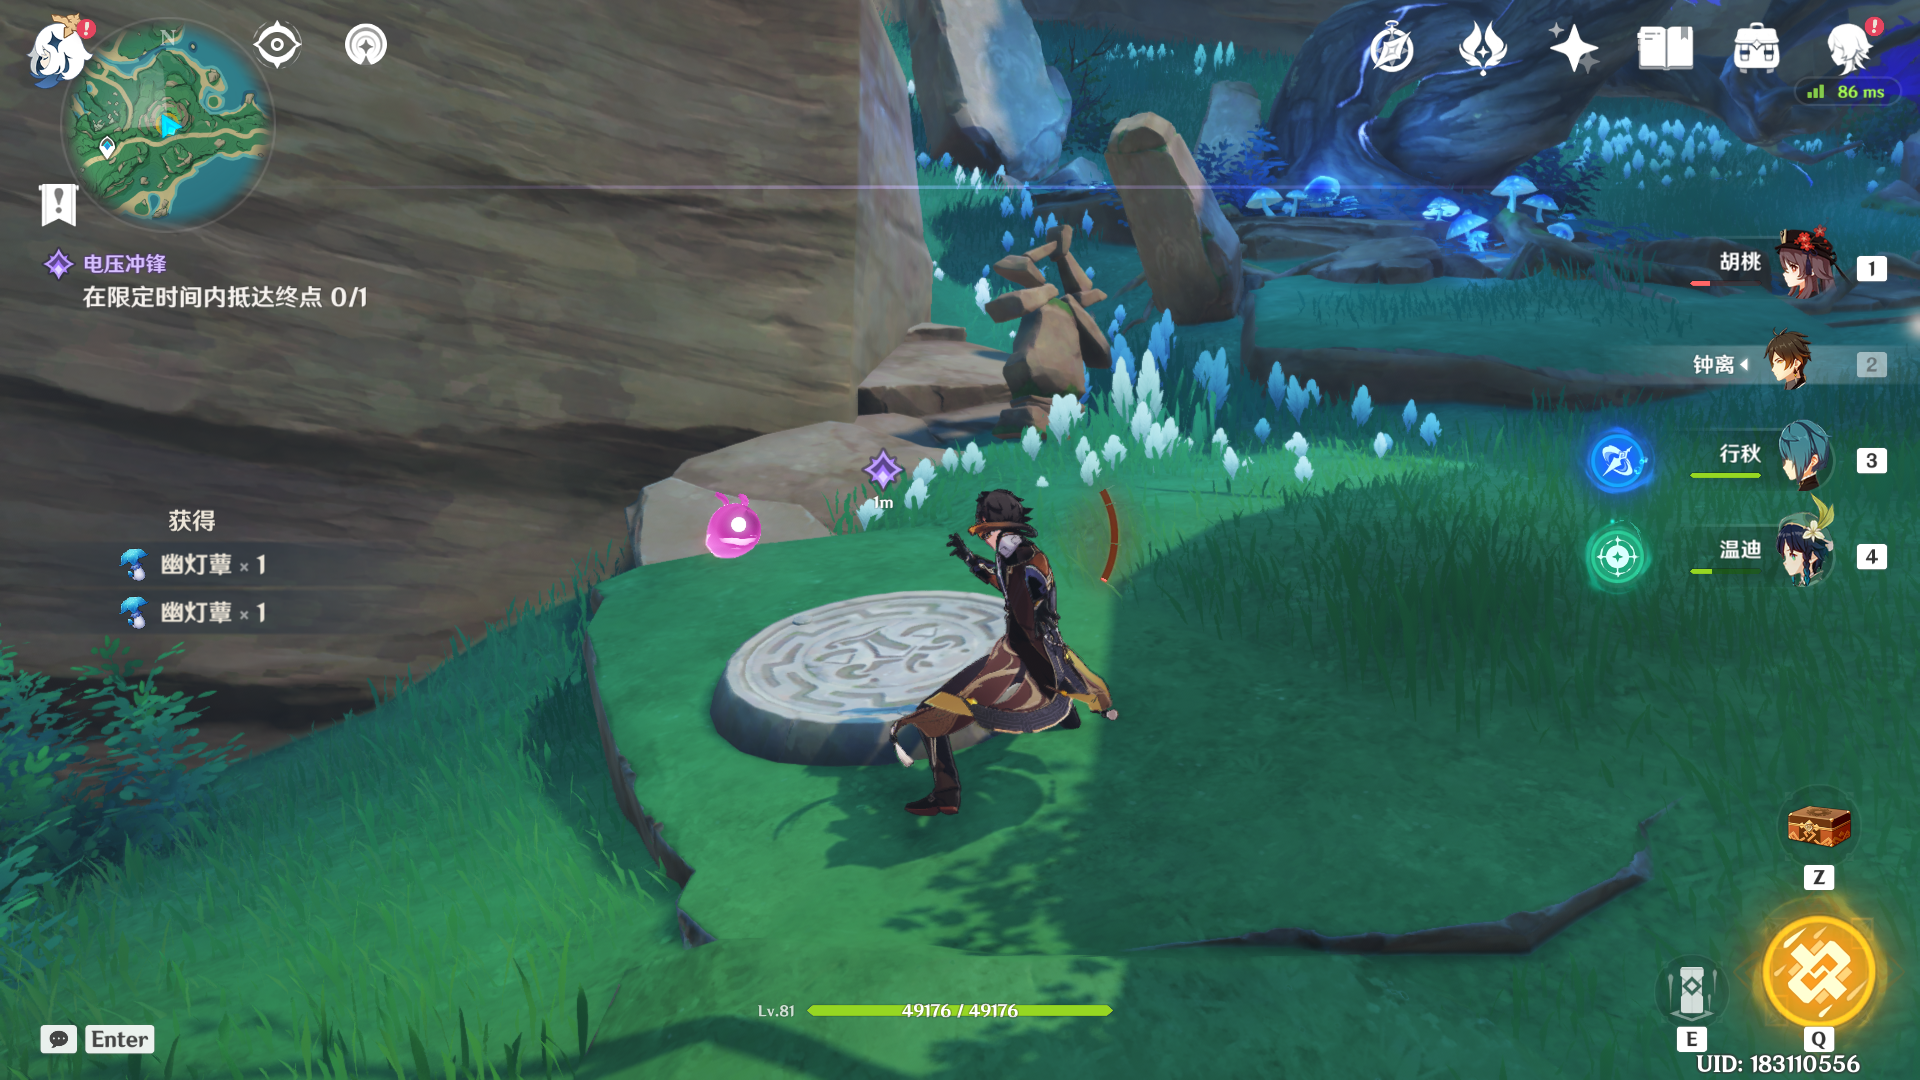character: (872, 431, 1163, 841)
